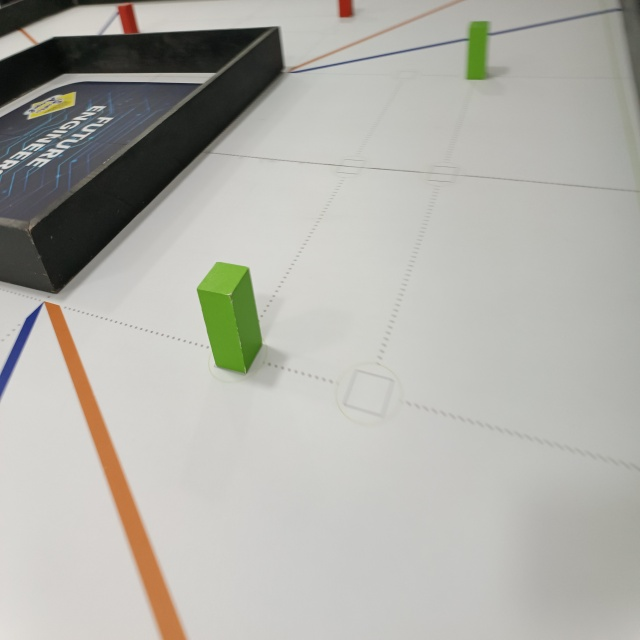blue line: (291, 10, 623, 77), (0, 301, 40, 403), (96, 5, 116, 36)
green rectangular prism: (197, 261, 261, 374), (460, 18, 494, 85)
orange line: (44, 306, 188, 640), (285, 0, 463, 72), (17, 29, 42, 44)
red rectangular prism: (116, 4, 141, 39), (338, 0, 356, 17)
